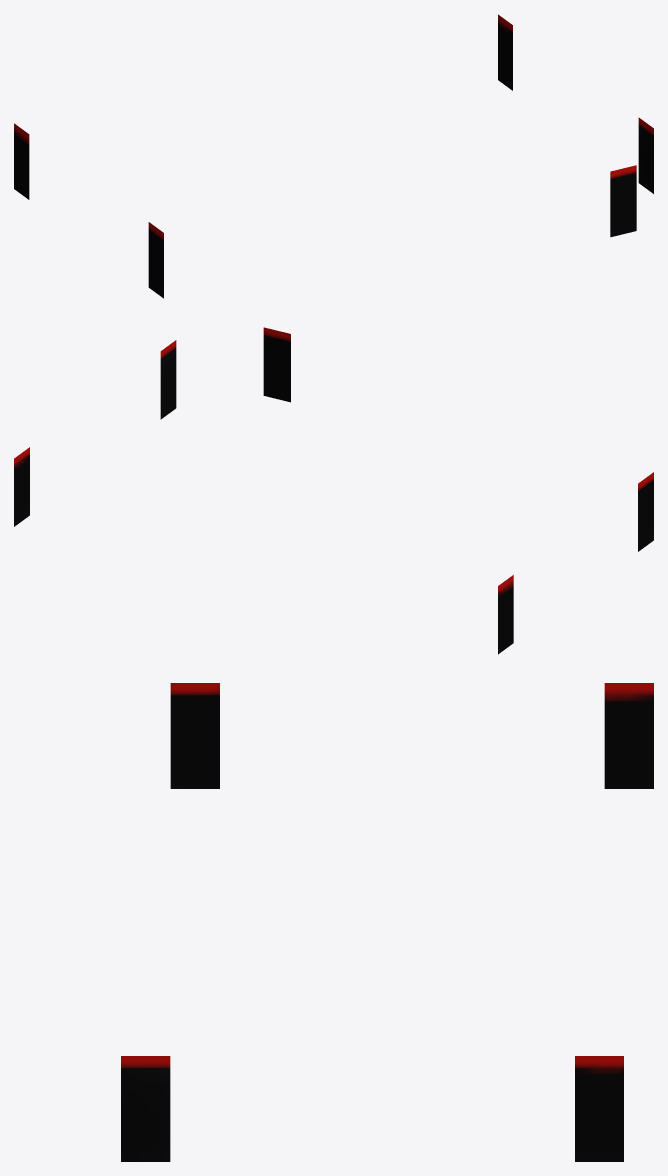
Rendered from HQ_V1_FlagBanners.fbx.
3 views of the same model, one above another, from view 1: azimuth 30°, elevation 25°; view 2: azimuth 150°, elevation 25°; view 3: azimuth 270°, elevation 25° (orthographic). The views are drawn at different scales.
Visible parts, largest first — view 1: Plane.009; view 2: Plane.009; view 3: Plane.009.
Boxes of the visible parts, x1,y1,x2,y2 form: Plane.009: [14, 14, 653, 298]; Plane.009: [14, 327, 653, 654]; Plane.009: [121, 683, 653, 1161].
Size of the model in its own units: 30.18 by 4 by 21.89.
